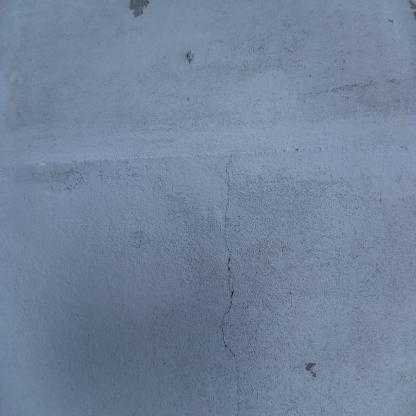crack: (220, 154, 240, 412)
